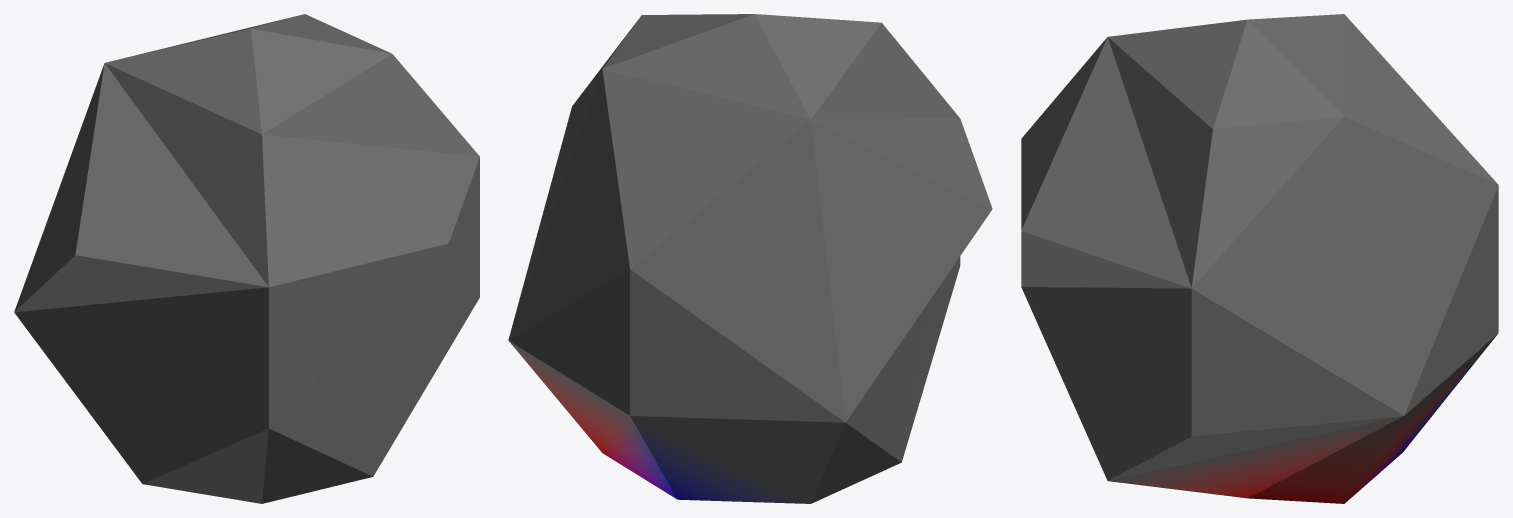
File: before_retriangulation_8.obj
3 views of the same model, side by side, from view 1: azimuth 30°, elevation 25°; view 2: azimuth 150°, elevation 25°; view 3: azimuth 270°, elevation 25° (orthographic). The views are drawn at different scales.
Size of the model in its own units: 1.85 by 2 by 1.81.
